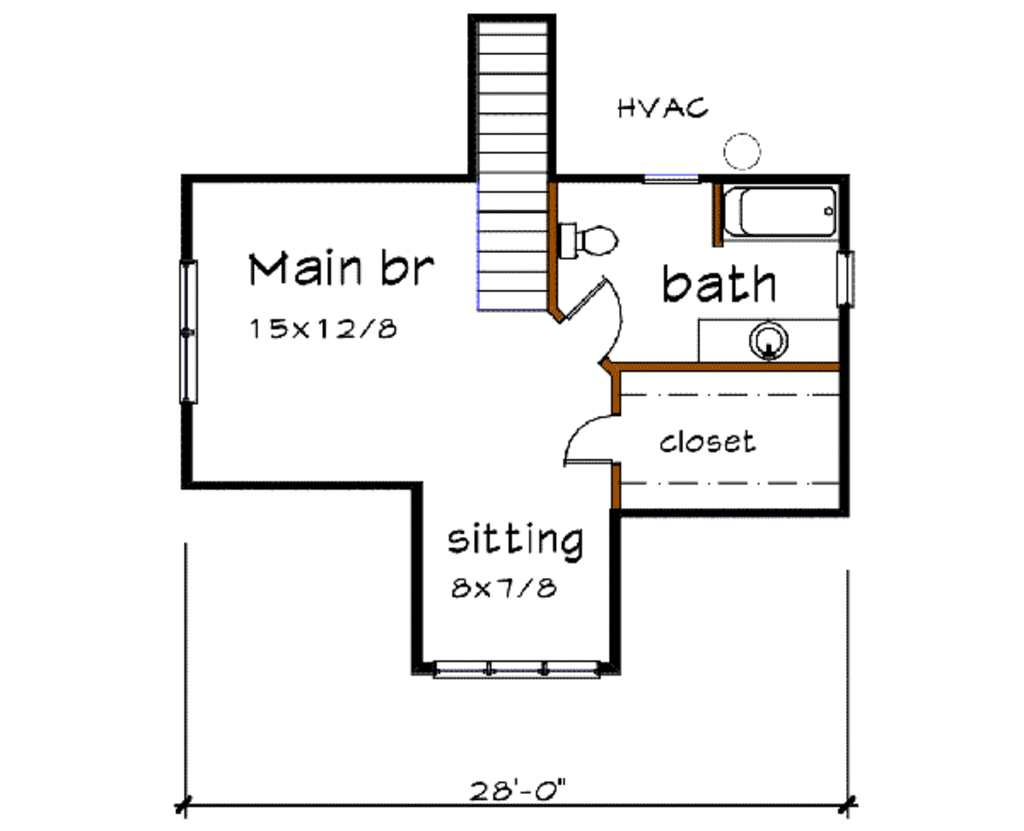door: (563, 271, 630, 361), (554, 401, 621, 473)
large_sink: (563, 212, 621, 268)
small_sink: (697, 311, 837, 363)
stairs: (460, 18, 550, 319)
tub: (706, 185, 846, 250)
window: (171, 261, 208, 406), (439, 659, 599, 678), (826, 249, 851, 309)
